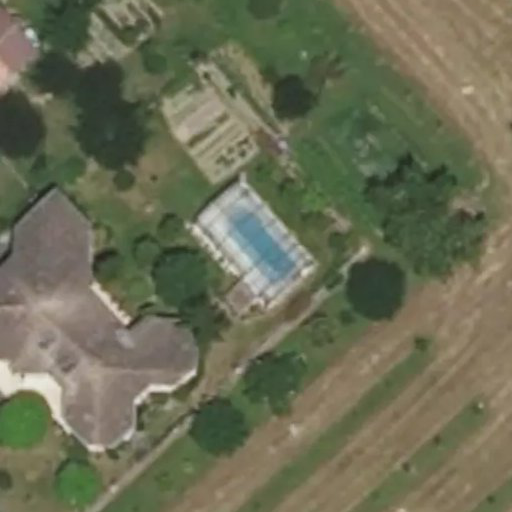pool: (221, 224, 290, 259)
